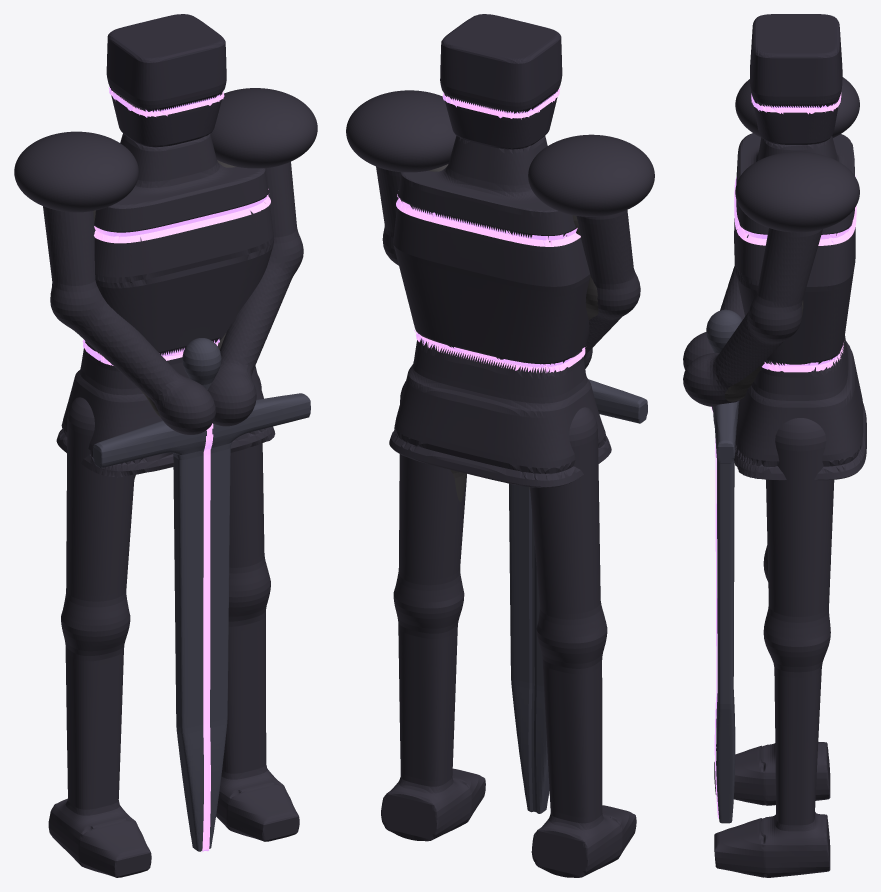
Rendered from knight_conduits.glb.
3 renders of one model, left to right at view 1: azimuth 30°, elevation 25°; view 2: azimuth 150°, elevation 25°; view 3: azimuth 270°, elevation 25°, orthographic.
Visible parts, largest first — view 1: torso_plate, leg_plate_r, sword, leg_plate_l, helm, arm_plate_r, arm_plate_l, pauldron_r, pauldron_l, sword__fuller_rune, torso_plate__rim_trim, helm__visor_line; view 2: torso_plate, leg_plate_r, leg_plate_l, helm, sword, pauldron_r, pauldron_l, arm_plate_r, torso_plate__rim_trim, arm_plate_l, torso_plate__waist_trim, body (+1 smaller); view 3: leg_plate_l, torso_plate, helm, arm_plate_l, sword, pauldron_l, leg_plate_r, pauldron_r, arm_plate_r, torso_plate__rim_trim, torso_plate__waist_trim, sword__fuller_rune (+2 smaller).
Boxes of the visible parts, x1,y1,x2,y2 form: torso_plate: (56,133,275,477); leg_plate_r: (48,397,151,877); sword: (93,338,310,851); leg_plate_l: (216,375,299,841); helm: (106,14,226,147); arm_plate_r: (43,206,215,434); arm_plate_l: (207,161,303,426); pauldron_r: (14,131,138,212); pauldron_l: (210,88,317,168); sword__fuller_rune: (202,423,213,851); torso_plate__rim_trim: (94,189,270,243); helm__visor_line: (108,87,224,117); torso_plate: (389,135,611,487); leg_plate_r: (530,407,636,877); leg_plate_l: (381,381,485,841); helm: (440,14,562,149); sword: (509,379,647,813); pauldron_r: (528,134,654,216); pauldron_l: (346,90,456,172); arm_plate_r: (576,210,640,368); torso_plate__rim_trim: (396,194,580,246); arm_plate_l: (376,166,400,265); torso_plate__waist_trim: (414,330,585,372); body: (428,164,598,501); leg_plate_l: (714,418,834,877); torso_plate: (734,133,866,480); helm: (750,14,842,144); arm_plate_l: (683,228,822,406); sword: (706,309,742,823); pauldron_l: (735,151,859,232); leg_plate_r: (714,545,830,805); pauldron_r: (735,77,859,137); arm_plate_r: (683,266,744,370); torso_plate__rim_trim: (734,175,856,245); torso_plate__waist_trim: (762,343,843,372); sword__fuller_rune: (711,406,718,818).
Bounding box in the file's own units: 0.9298 × 2.48 × 0.5164.
